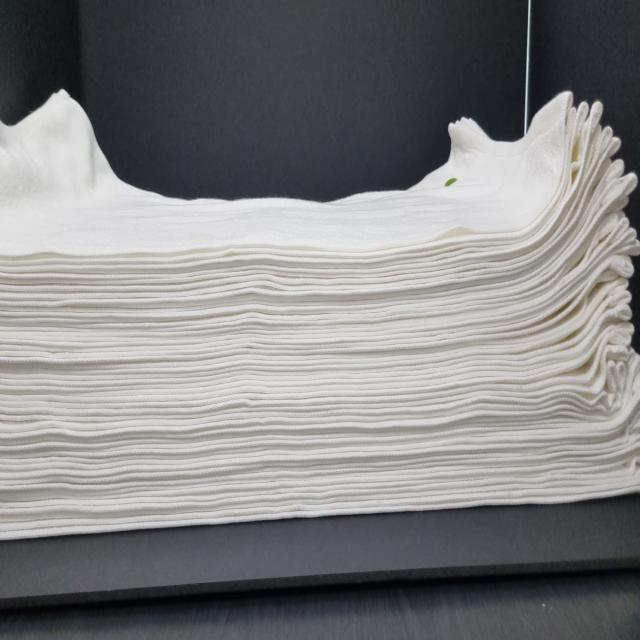50_towel_counts: (0, 52, 640, 544)
